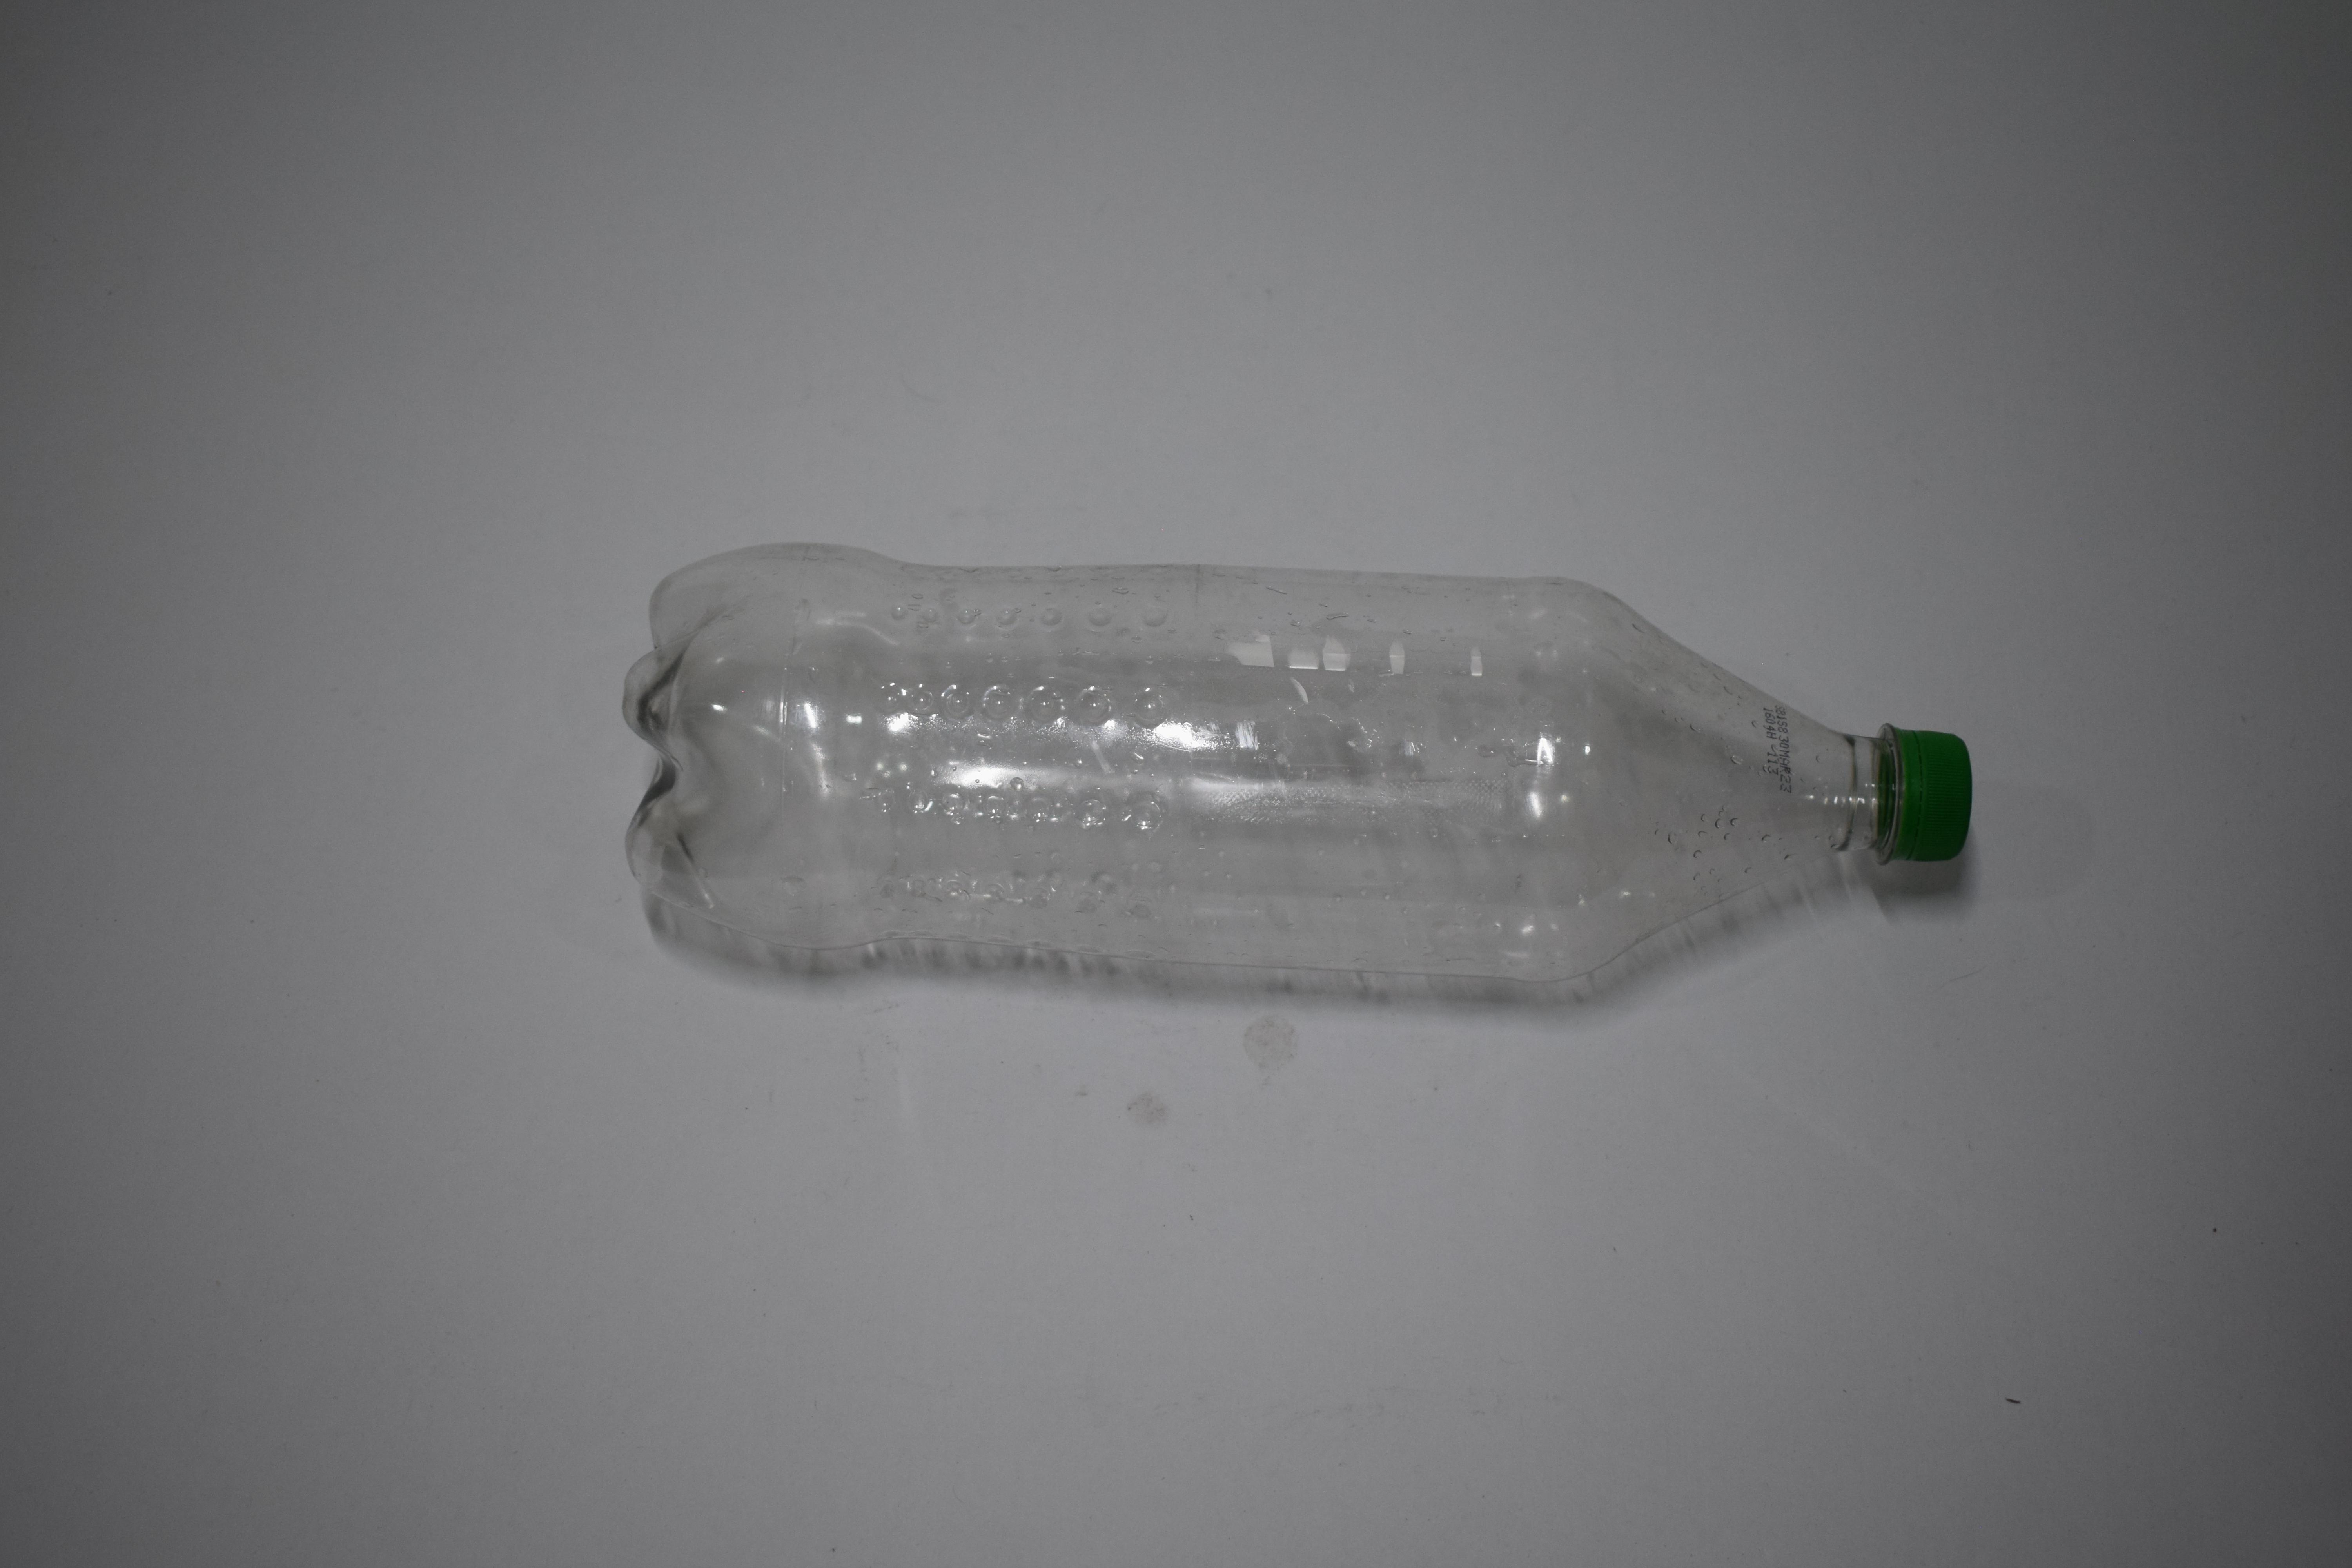bottle: (0, 534, 96, 1015)
